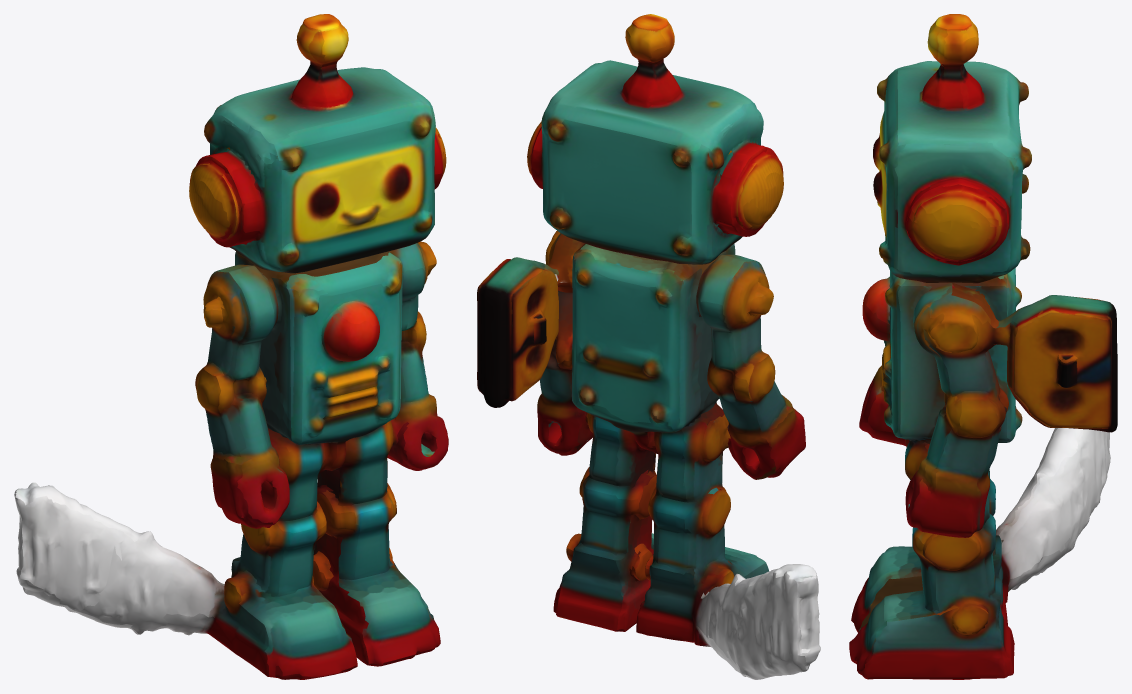
The model's file is Toy_robot.glb.
3 views of the same model, side by side, from view 1: azimuth 30°, elevation 25°; view 2: azimuth 150°, elevation 25°; view 3: azimuth 270°, elevation 25° (orthographic). The views are drawn at different scales.
Visible parts, largest first — view 1: tmp4gekmieo.ply; view 2: tmp4gekmieo.ply; view 3: tmp4gekmieo.ply.
Part boxes in pixels (box(x1,y1,x2,y2)): tmp4gekmieo.ply: box(14, 14, 448, 679); tmp4gekmieo.ply: box(477, 14, 820, 679); tmp4gekmieo.ply: box(849, 14, 1117, 679).
Size of the model in its own units: 1.2 by 1.99 by 0.7741.
Materials: 1 (1 with a texture image).
